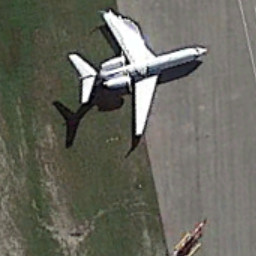Airplane: (53, 6, 212, 148)
